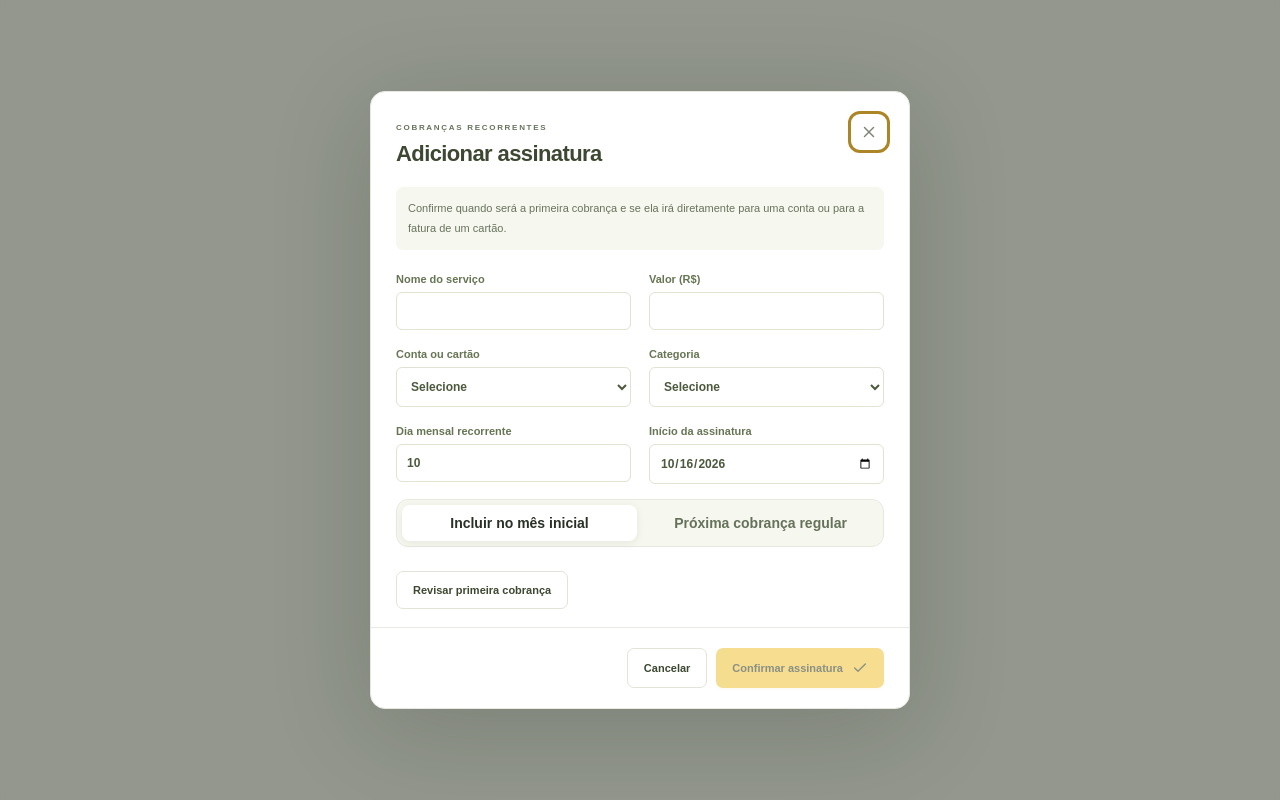
Primeira cobrança da assinatura › invalida a prévia ao trocar para a próxima cobrança regular
The image size is (1280, 800).
Type "Serviço" into the field labelled "Nome do serviço" at (514, 311), box [396,292,631,330]
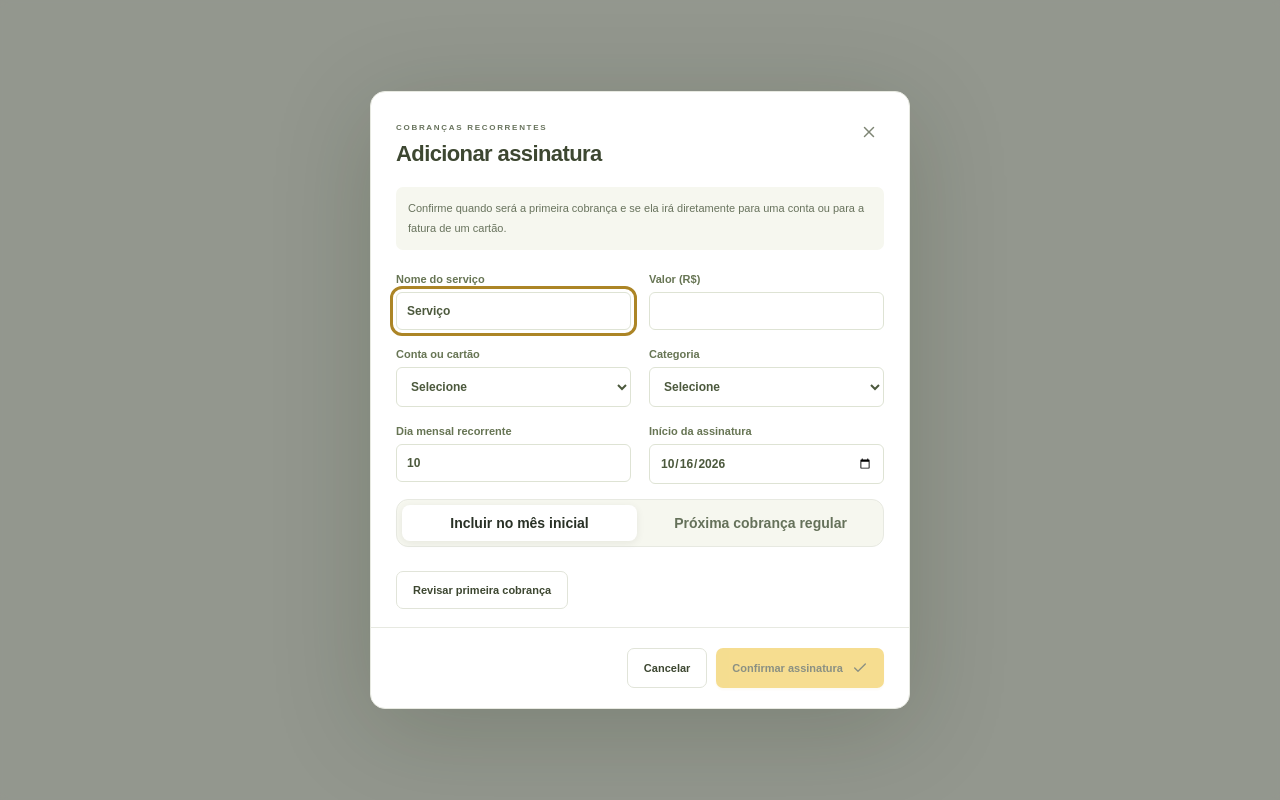
Type "20" into the number field labelled "Valor (R$)" at (766, 311), box [649,292,884,330]
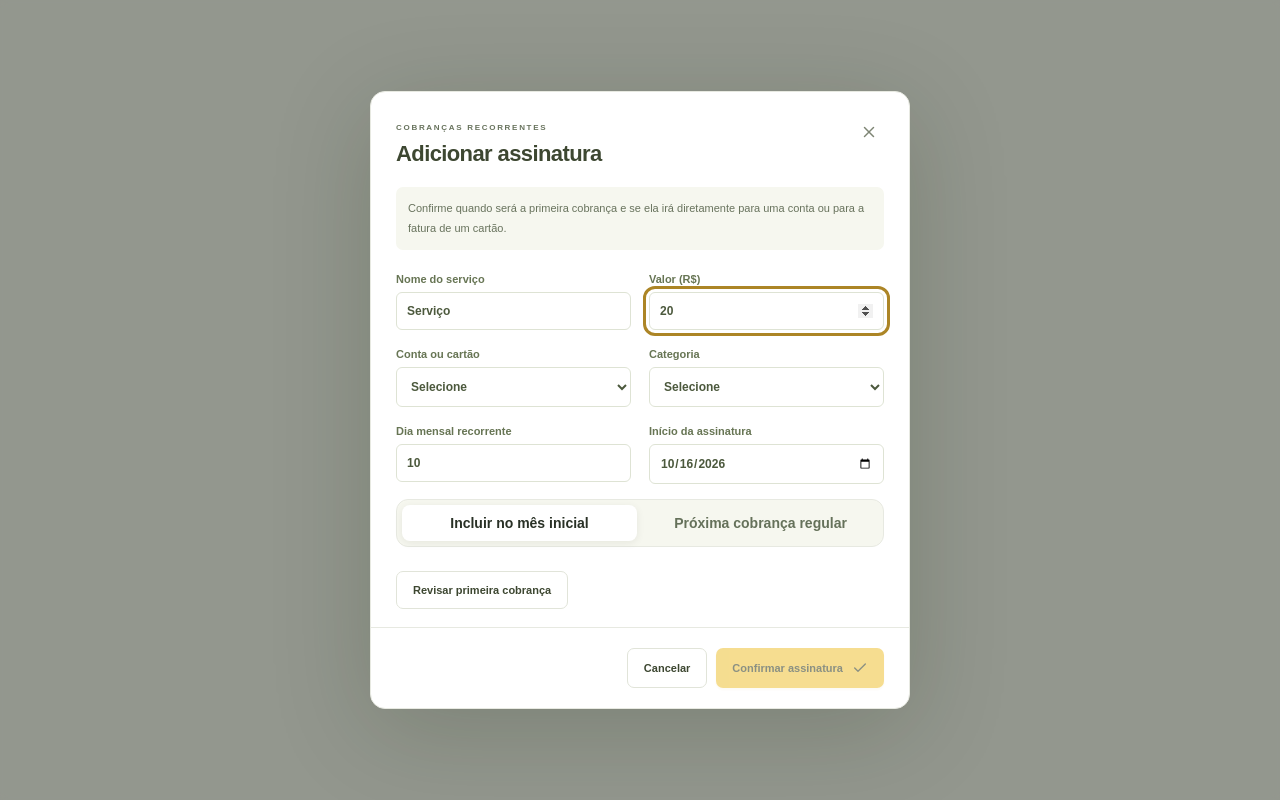
Select "Conta · BB" in the dropdown labelled "Conta ou cartão" at (514, 387), box [396,367,631,407]
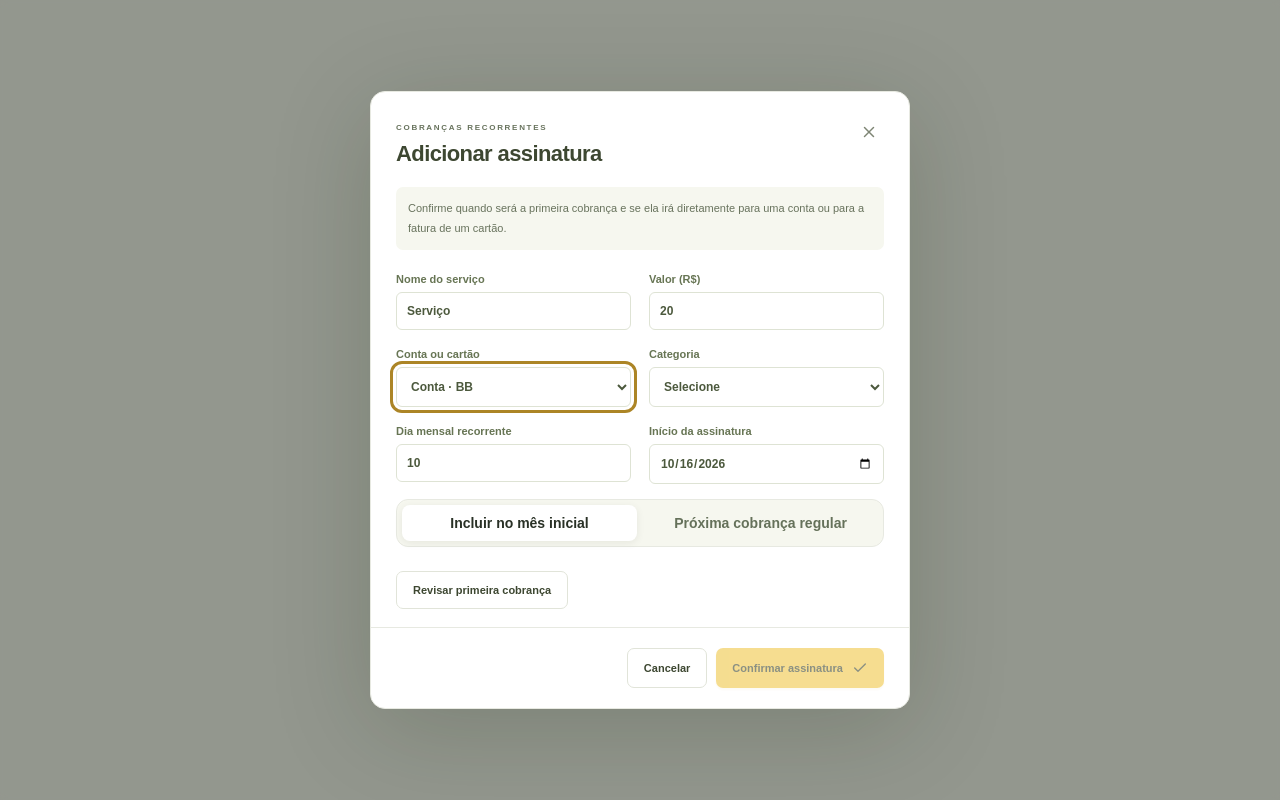
Select "Serviços" in the dropdown labelled "Categoria" at (766, 387), box [649,367,884,407]
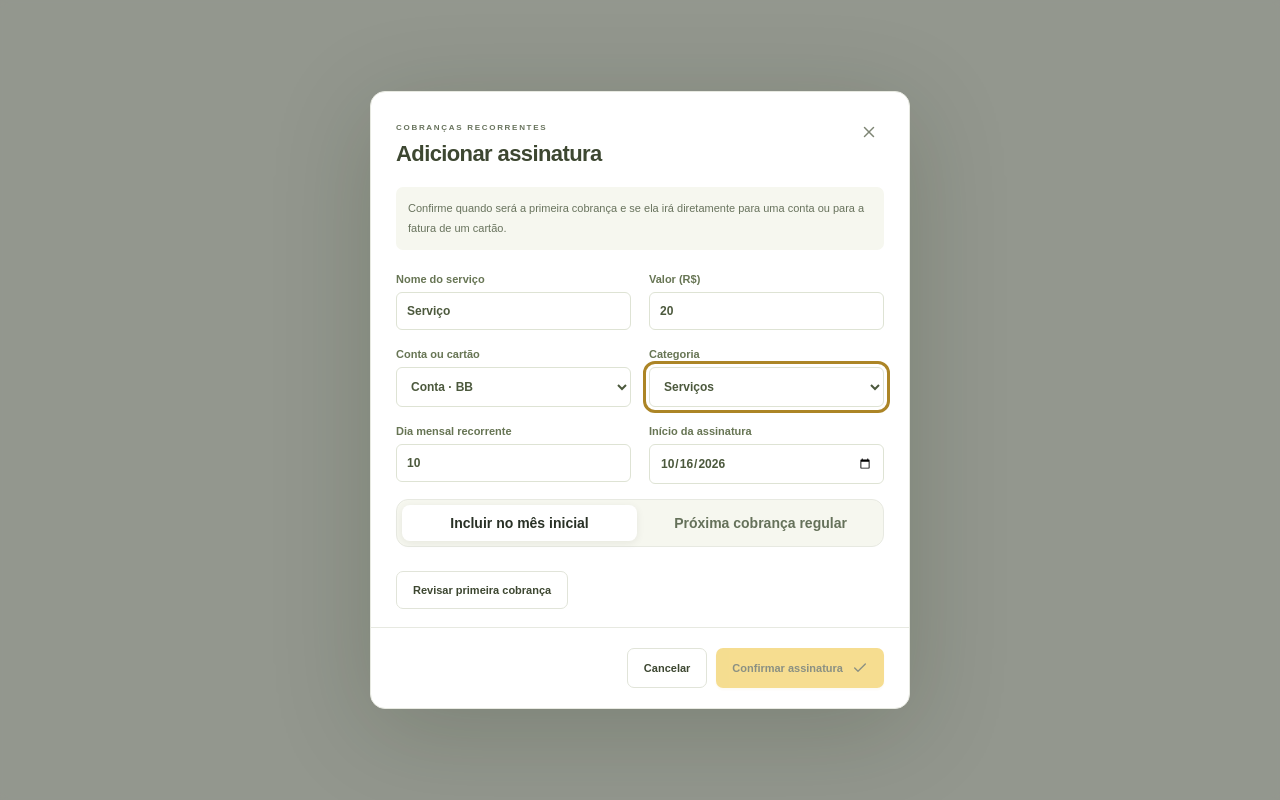
Click the button "Revisar primeira cobrança" at (482, 590), box [396,571,568,609]
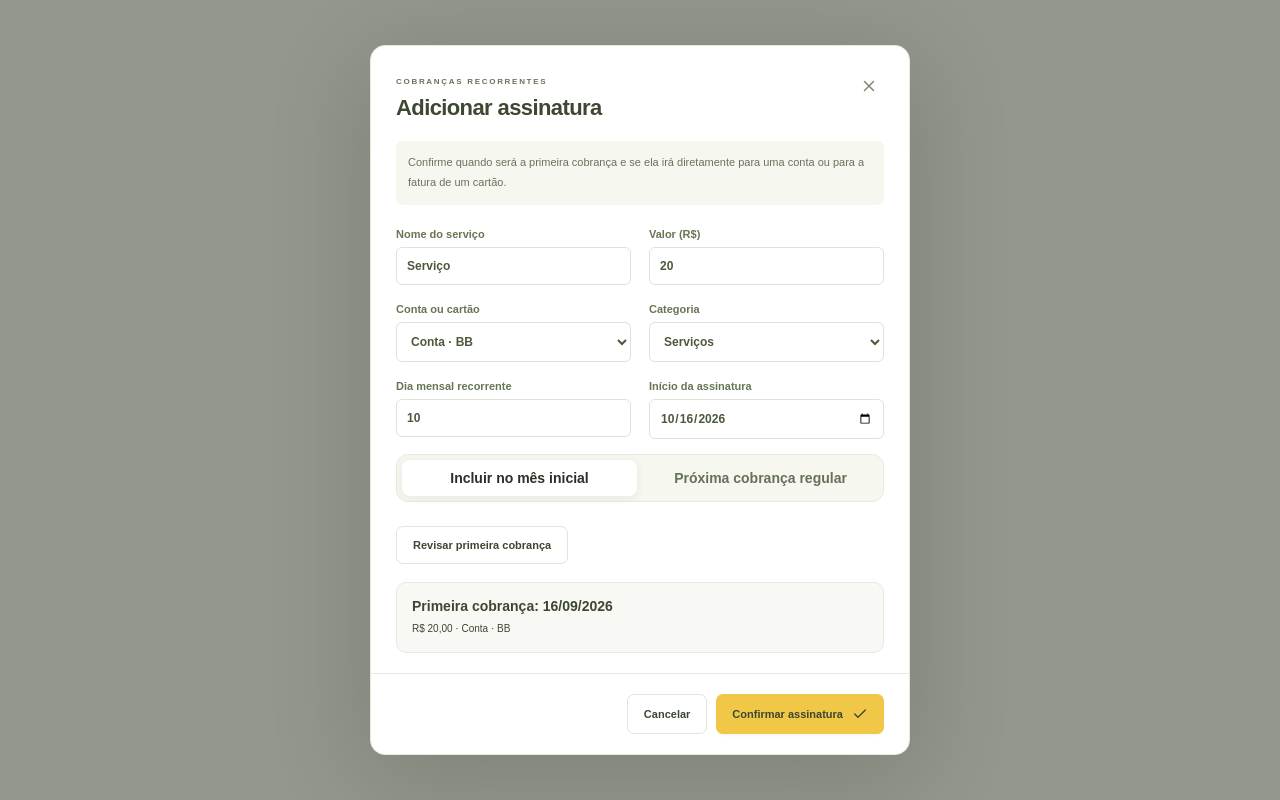
Expected: the text "Primeira cobrança: 16/09/2026" is shown, [412,598,613,614]
Click the button "Próxima cobrança regular" at (760, 478), box [643,460,878,496]
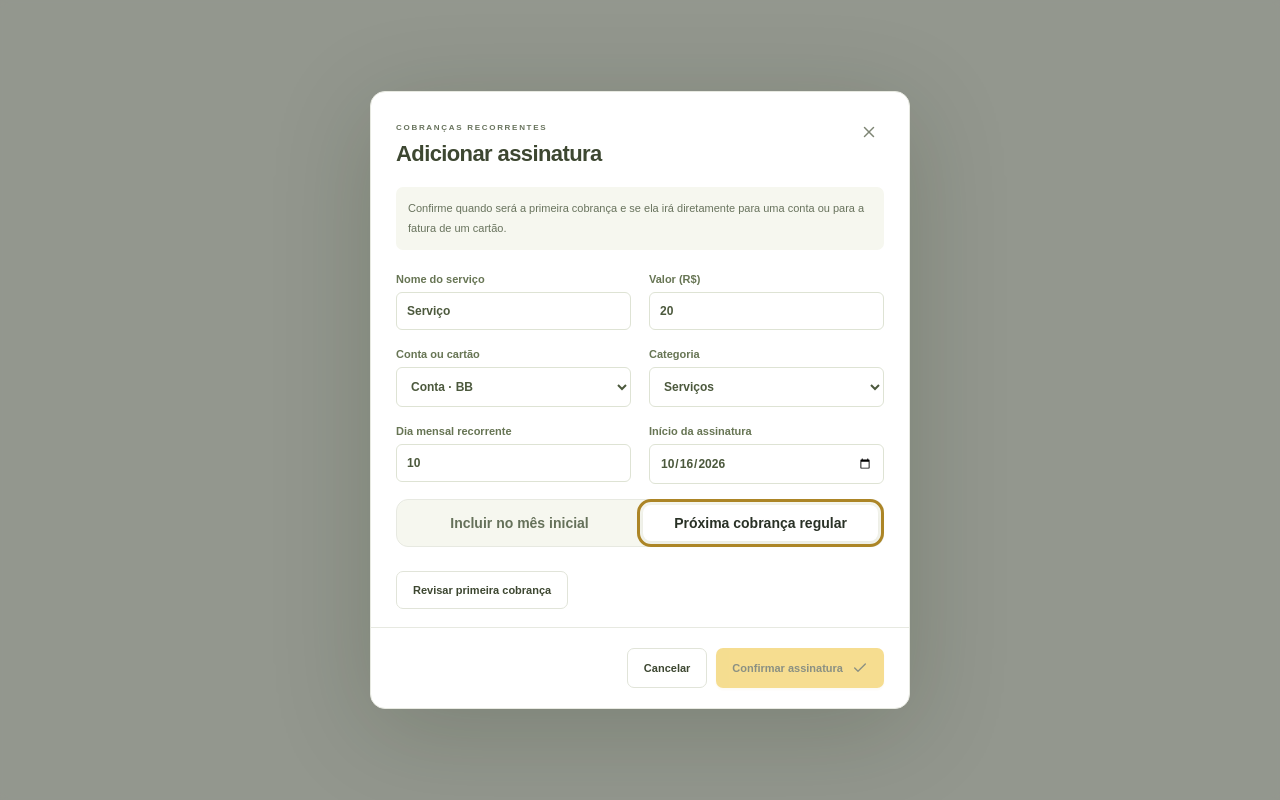
Expected: the button "Confirmar assinatura" is disabled, [716,648,884,688]
